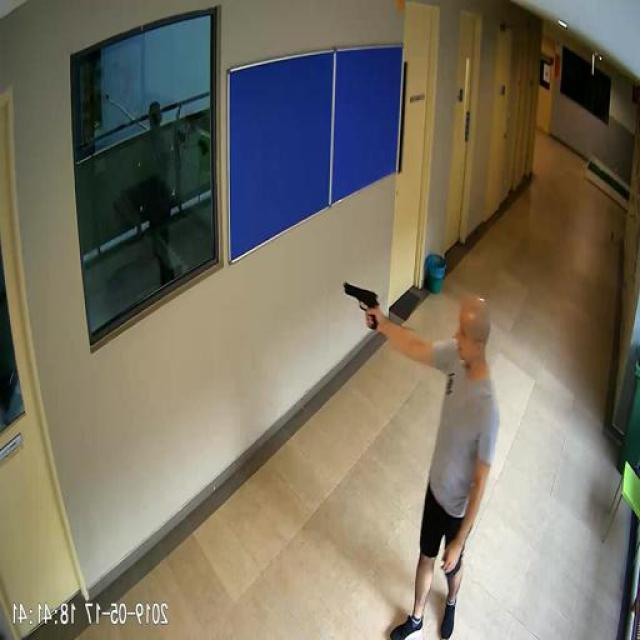Gun: (345, 280, 380, 328)
